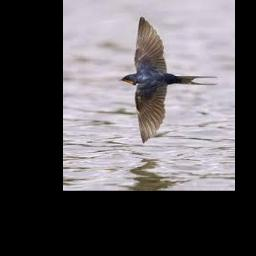Swallow: (120, 17, 219, 144)
